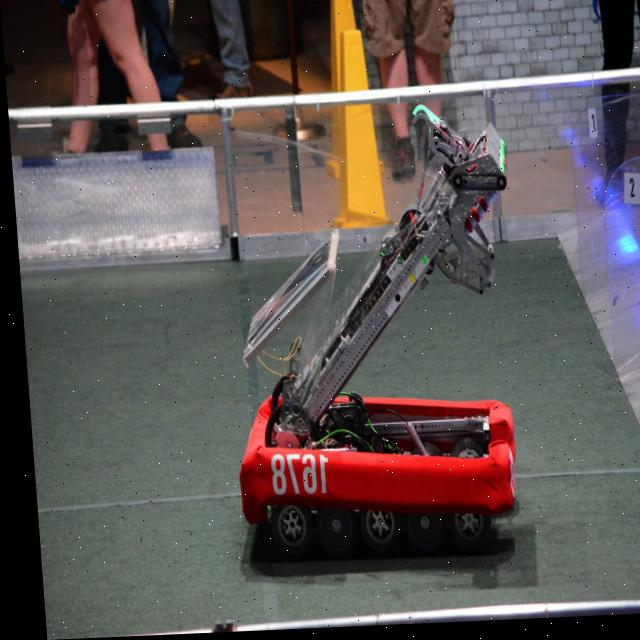robot: (207, 107, 530, 556)
